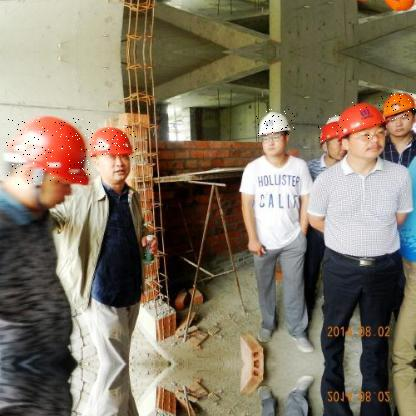safetyhelmet: (4, 116, 91, 186), (340, 102, 388, 142), (90, 126, 138, 159), (255, 109, 296, 137), (381, 93, 415, 122), (316, 123, 340, 144), (328, 114, 342, 125)
